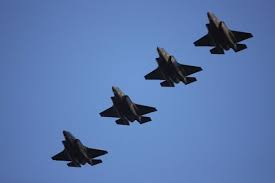fighter: (192, 10, 256, 55), (141, 45, 204, 89), (97, 84, 161, 127), (49, 126, 111, 170)
